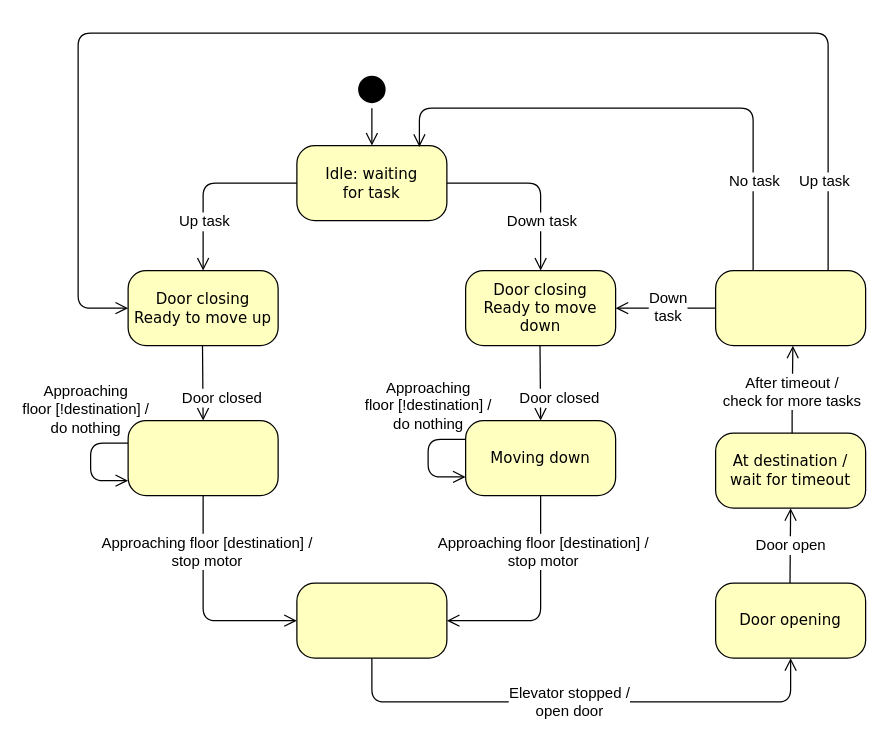
This 888x741 diagram has some shape labels left out. Each missing label, with the centre of its shape:
Checking next task: (x=790, y=307)
Moving up: (x=202, y=457)
Stopping: (x=371, y=620)
